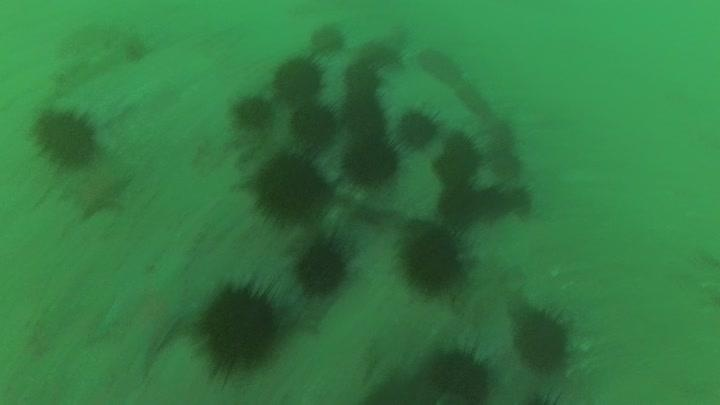echinus: (194, 278, 285, 376), (251, 150, 330, 224), (396, 221, 471, 295), (30, 104, 102, 169), (510, 304, 575, 374), (424, 343, 496, 403), (292, 233, 354, 299), (341, 135, 402, 188), (433, 130, 483, 187), (271, 54, 325, 103), (289, 101, 338, 148), (342, 95, 388, 142), (396, 105, 442, 150), (435, 182, 483, 225), (341, 60, 384, 105), (230, 92, 275, 131), (467, 183, 512, 221), (355, 38, 404, 71), (483, 118, 520, 159), (496, 182, 536, 218), (308, 22, 348, 55), (487, 149, 524, 183)
starfish: (93, 251, 199, 367), (64, 163, 134, 220)
